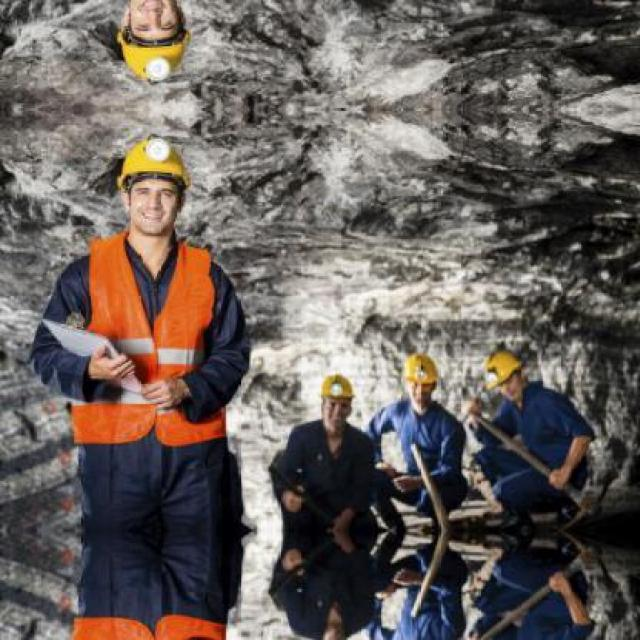Reflective-Jacket: (64, 236, 236, 452)
Safety-Helmet: (111, 130, 200, 192), (116, 30, 206, 88), (389, 342, 448, 398), (477, 344, 531, 396), (309, 365, 365, 412)
